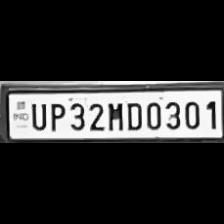0: (181, 98, 201, 130), (143, 98, 161, 130)
1: (202, 98, 218, 130)
2: (86, 100, 104, 132)
3: (162, 99, 182, 131), (66, 99, 86, 130)
D: (124, 99, 142, 131)
M: (104, 100, 124, 132)
P: (47, 100, 65, 132)
U: (28, 100, 46, 130)
